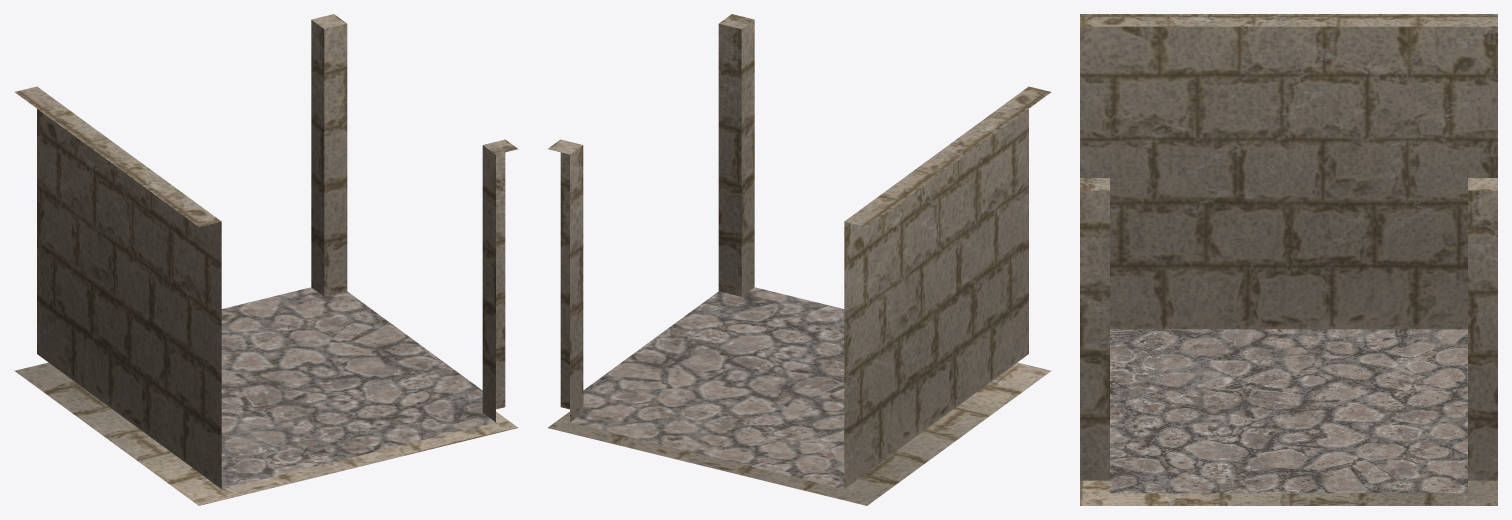
Rendered from ModuleT.fbx.
The picture shows the model from 3 angles, left to right: view 1: azimuth 30°, elevation 25°; view 2: azimuth 150°, elevation 25°; view 3: azimuth 270°, elevation 25°; orthographic projection. The views are drawn at different scales.
Parts seen in each view (by area): view 1: ModuleTFloorWalls, ModuleTFloorTile, ModuleTFloorEdge; view 2: ModuleTFloorWalls, ModuleTFloorTile, ModuleTFloorEdge; view 3: ModuleTFloorWalls, ModuleTFloorTile, ModuleTFloorEdge.
Boxes of the visible parts, x1,y1,x2,y2 form: ModuleTFloorWalls: (15,14,518,488); ModuleTFloorTile: (221,287,495,488); ModuleTFloorEdge: (14,362,517,505); ModuleTFloorWalls: (547,14,1050,488); ModuleTFloorTile: (570,287,844,488); ModuleTFloorEdge: (548,362,1051,505); ModuleTFloorWalls: (1080,14,1497,480); ModuleTFloorTile: (1110,329,1467,493); ModuleTFloorEdge: (1080,480,1497,505).
Size of the model in its own units: 300 by 250 by 300.
